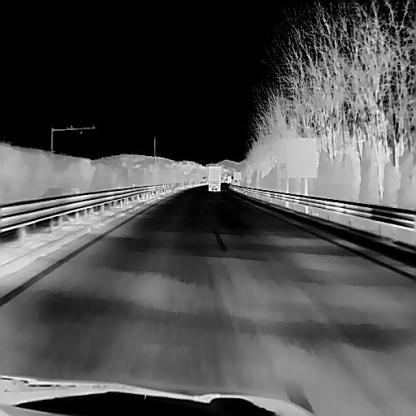car: (207, 164, 221, 191), (226, 174, 231, 183)
